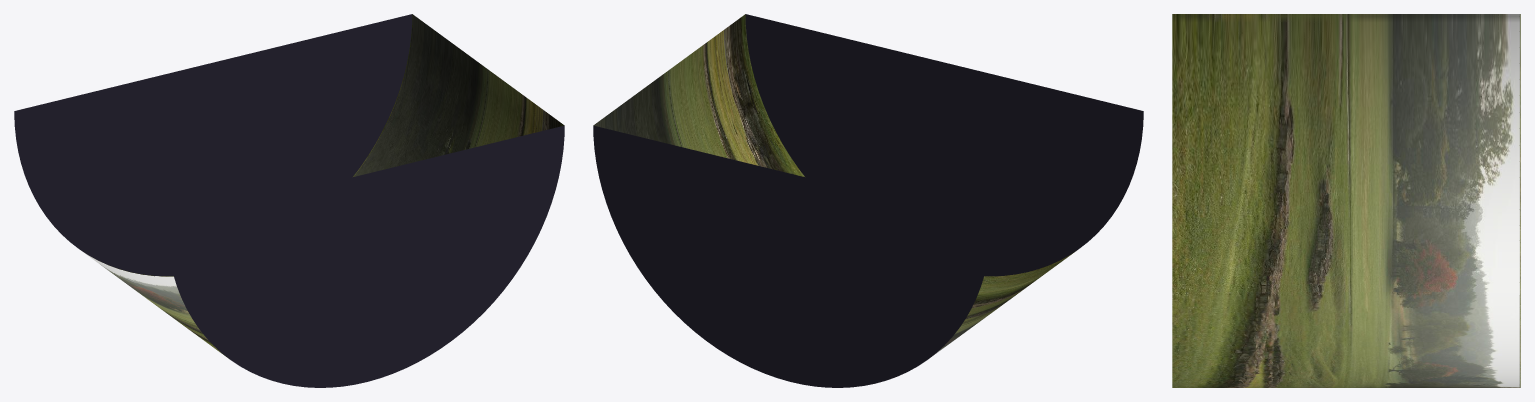
File: mauerreste.glb
3 renders of one model, left to right at view 1: azimuth 30°, elevation 25°; view 2: azimuth 150°, elevation 25°; view 3: azimuth 270°, elevation 25°, orthographic. The views are drawn at different scales.
Visible parts, largest first — view 1: root, Komponente#2; view 2: root, Komponente#2; view 3: Komponente#2.
Boxes of the visible parts, x1,y1,x2,y2 form: root: (14,14,564,387); Komponente#2: (82,14,564,356); root: (593,14,1143,387); Komponente#2: (593,14,1075,356); Komponente#2: (1172,14,1520,387).
Size of the model in its own units: 4.44 by 2.22 by 2.94.
Materials: 3 (1 with a texture image).
